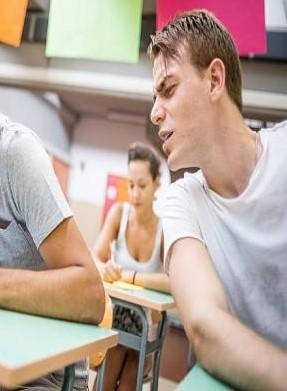cheating: (138, 3, 287, 391)
